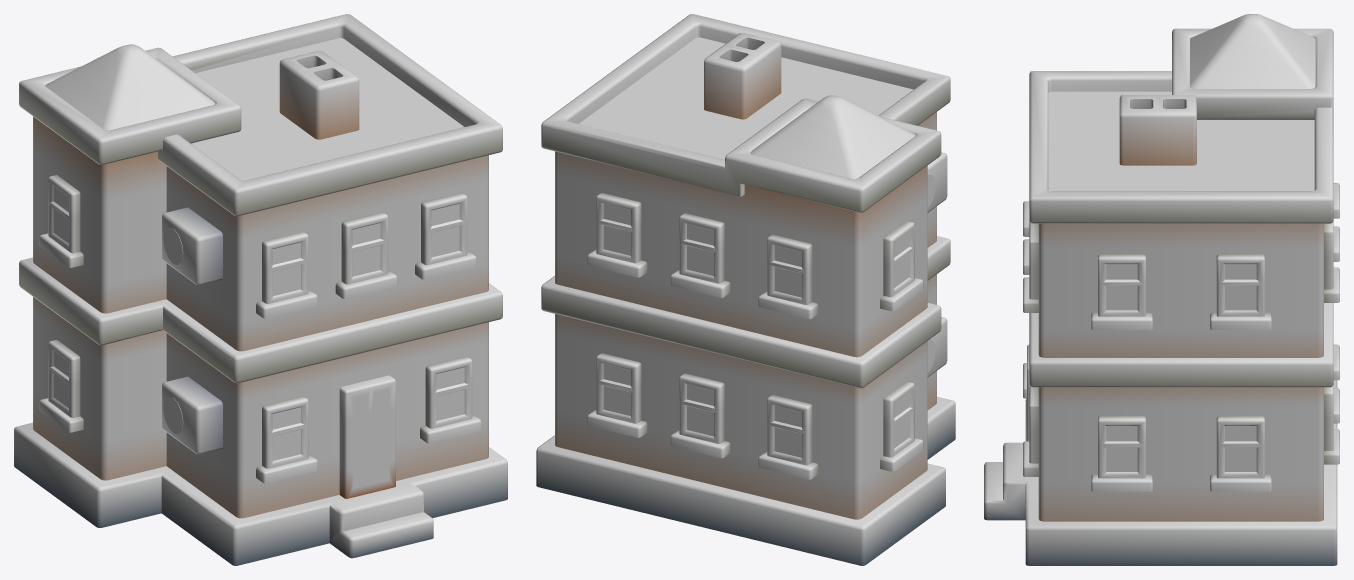
The model's file is NF_Bld_House 36.fbx.
3 views of the same model, side by side, from view 1: azimuth 30°, elevation 25°; view 2: azimuth 150°, elevation 25°; view 3: azimuth 270°, elevation 25° (orthographic). The views are drawn at different scales.
Visible parts, largest first — view 1: House_36; view 2: House_36; view 3: House_36.
Part boxes in pixels (bbox=[...]): House_36: bbox=[14, 14, 507, 565]; House_36: bbox=[536, 14, 955, 565]; House_36: bbox=[984, 14, 1339, 565].
Size of the model in its own units: 8.16 by 9.84 by 7.48.
